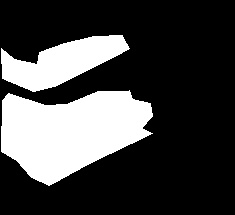fire: (38, 33, 141, 77)
